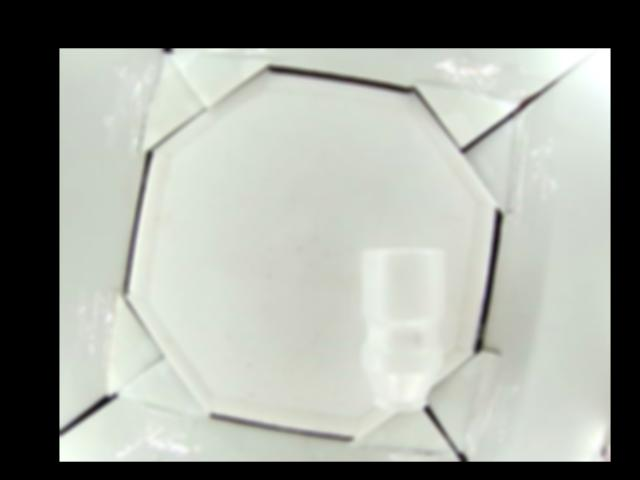Bottle: (359, 246, 446, 409)
